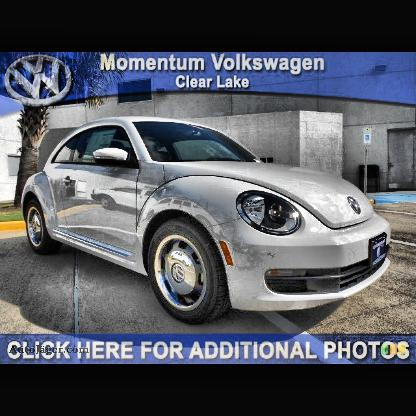Volkswagen Beetle Hatchback 2012: (23, 118, 391, 322)
